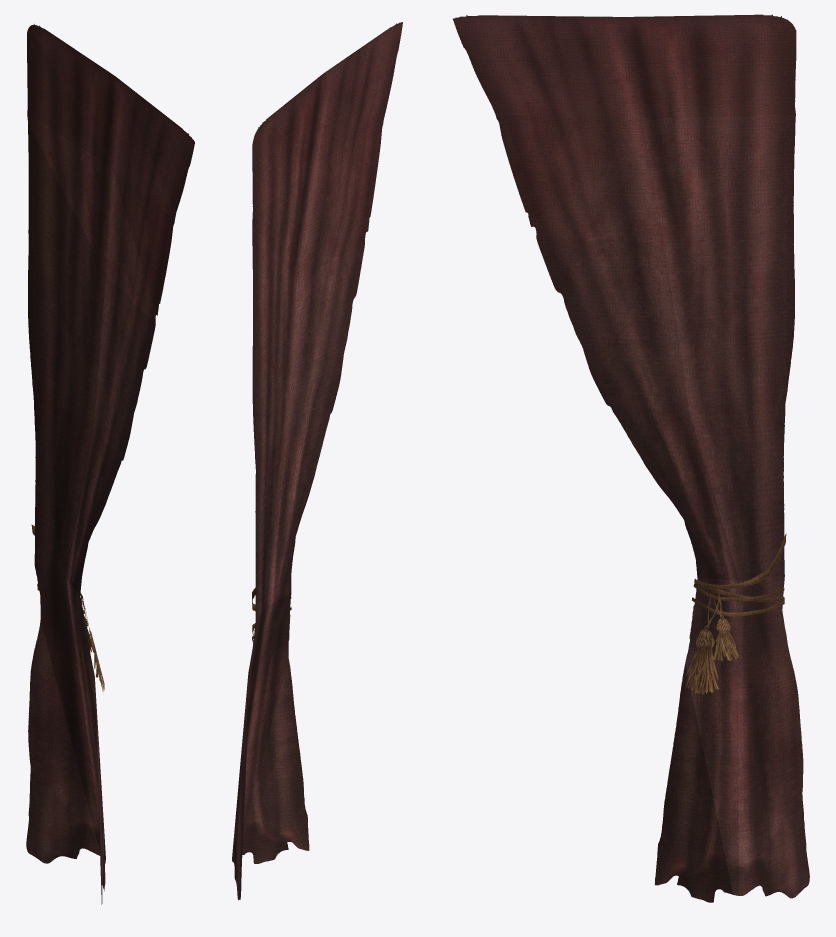
The model's file is bg_lut_lucastle_castlecurtain01a_sm_ysi.FBX.
3 renders of one model, left to right at view 1: azimuth 30°, elevation 25°; view 2: azimuth 150°, elevation 25°; view 3: azimuth 270°, elevation 25°, orthographic. The views are drawn at different scales.
Parts seen in each view (by area): view 1: bg_lut_lucastle_castlecurtain01a_sm_ysi; view 2: bg_lut_lucastle_castlecurtain01a_sm_ysi; view 3: bg_lut_lucastle_castlecurtain01a_sm_ysi.
Boxes of the visible parts, x1,y1,x2,y2 form: bg_lut_lucastle_castlecurtain01a_sm_ysi: (26,24,194,904); bg_lut_lucastle_castlecurtain01a_sm_ysi: (232,22,402,900); bg_lut_lucastle_castlecurtain01a_sm_ysi: (453,14,809,902).
Size of the model in its own units: 56.77 by 877 by 344.
